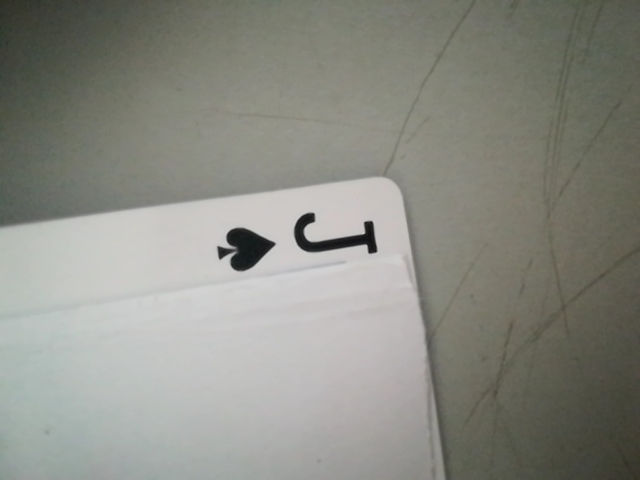ht j: (190, 197, 389, 275)
